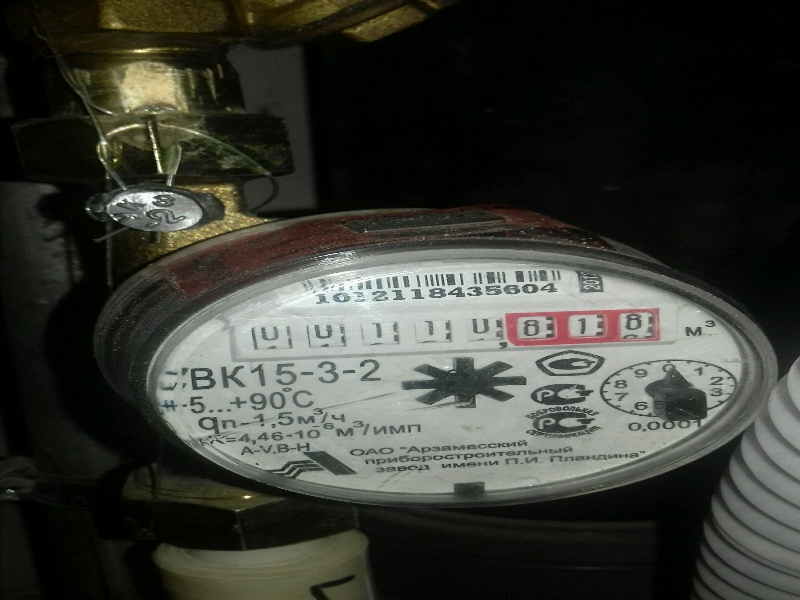meter: (239, 314, 664, 346)
